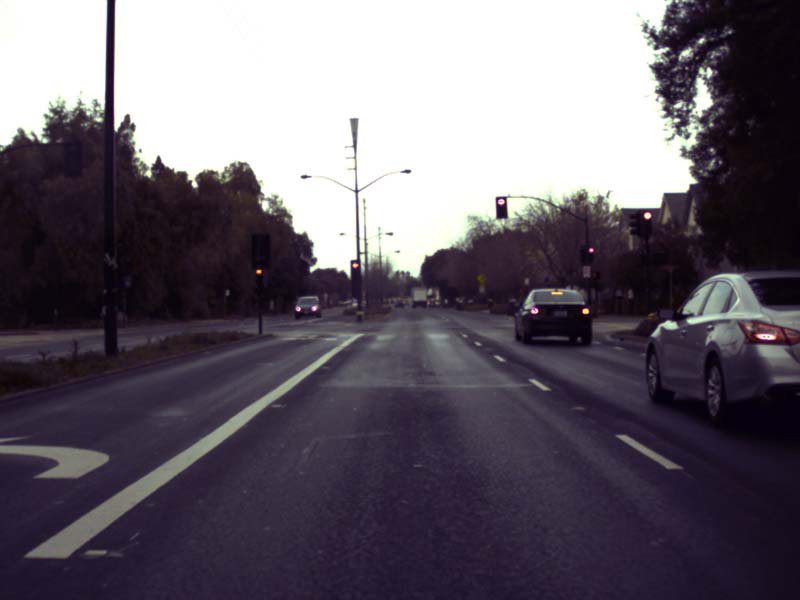Red: (350, 260, 361, 283), (495, 196, 507, 217), (642, 211, 652, 235), (255, 267, 263, 293), (587, 246, 593, 263)
